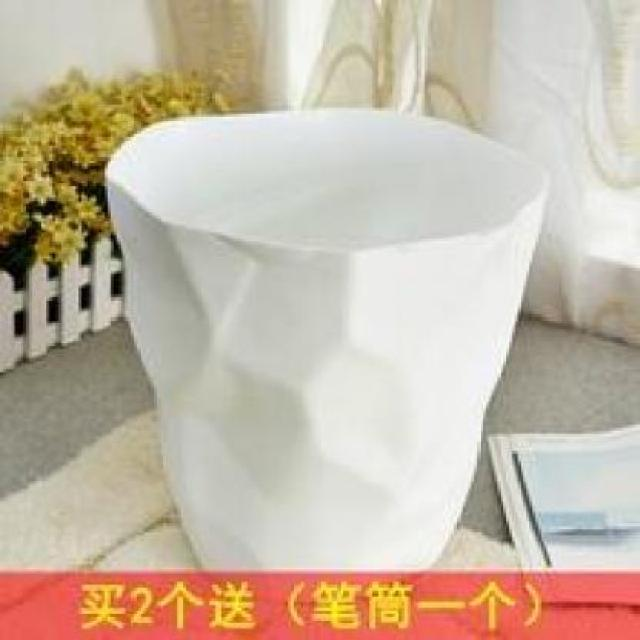dustbin: (100, 100, 555, 572)
